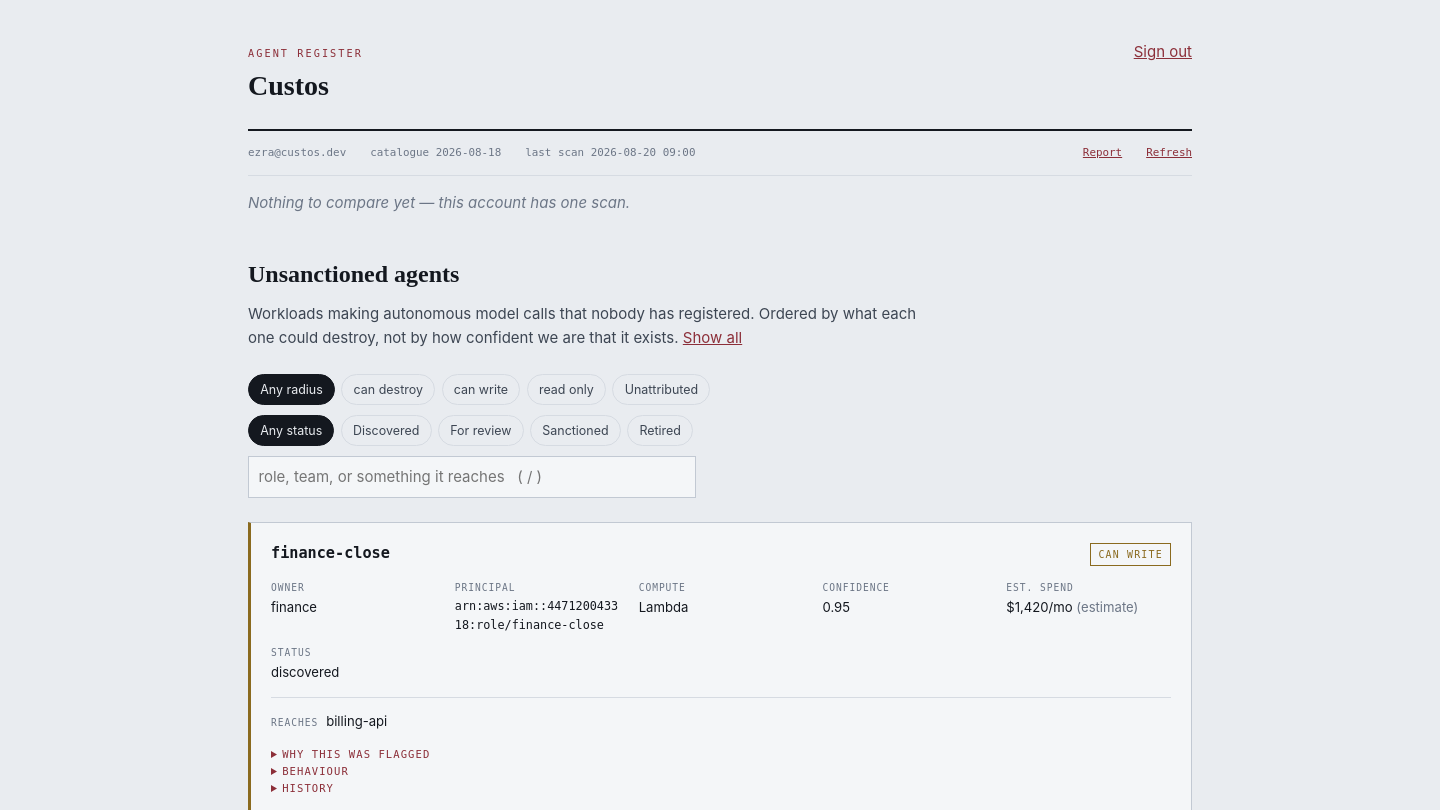
Scenario: granting › shows the scope before granting it
This screenshot has width=1440, height=810.
Expected: the heading "finance-close" is shown, [271,541,390,565]
Click the heading "Why this was flagged" at (356, 754), box [282,748,430,760]
(page scrolled)
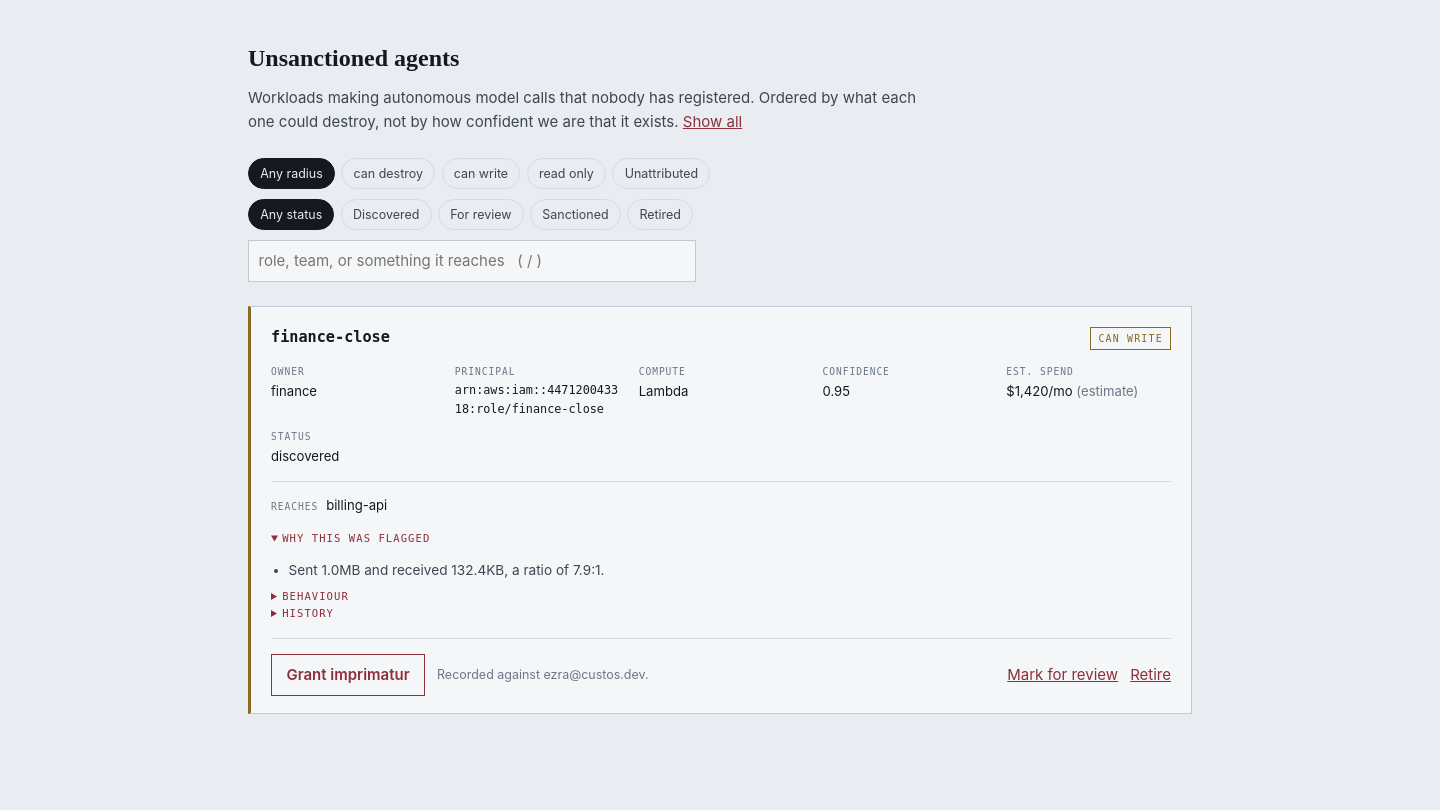
Click the button "Grant imprimatur" at (348, 675), box [271,654,425,696]
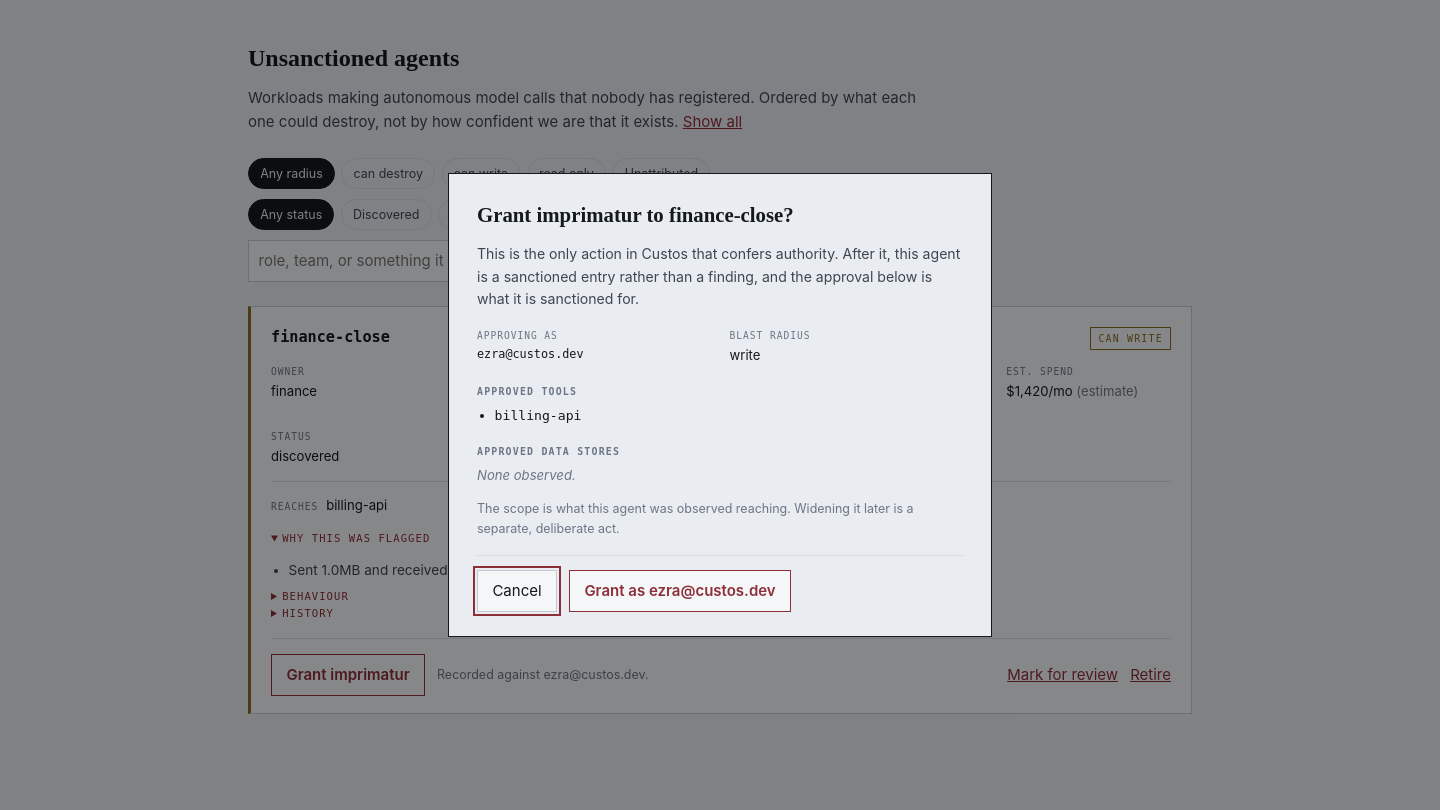
Expected: the dialog shows "billing-api", [495,408,581,423]
Expected: the dialog shows "ezra@custos.dev", [477,347,584,361]
